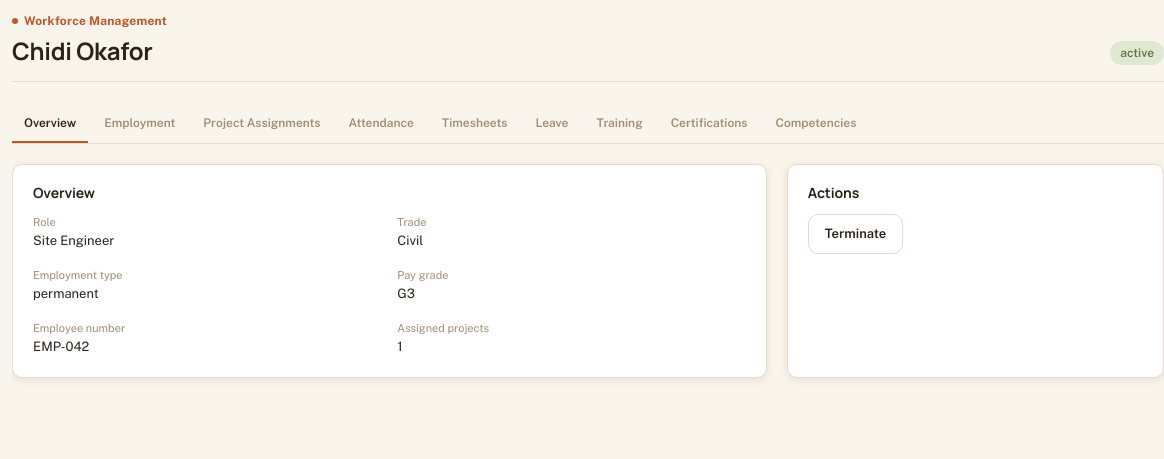
Test case: EmployeeDetailPage › shows days remaining where an allowance is set, and plain days taken where it is not
This screenshot has width=1164, height=459.
Expected: the heading "Chidi Okafor" is shown, [12, 37, 167, 65]
Click the button "Leave" at {"x": 552, "y": 125}, box [524, 106, 580, 143]
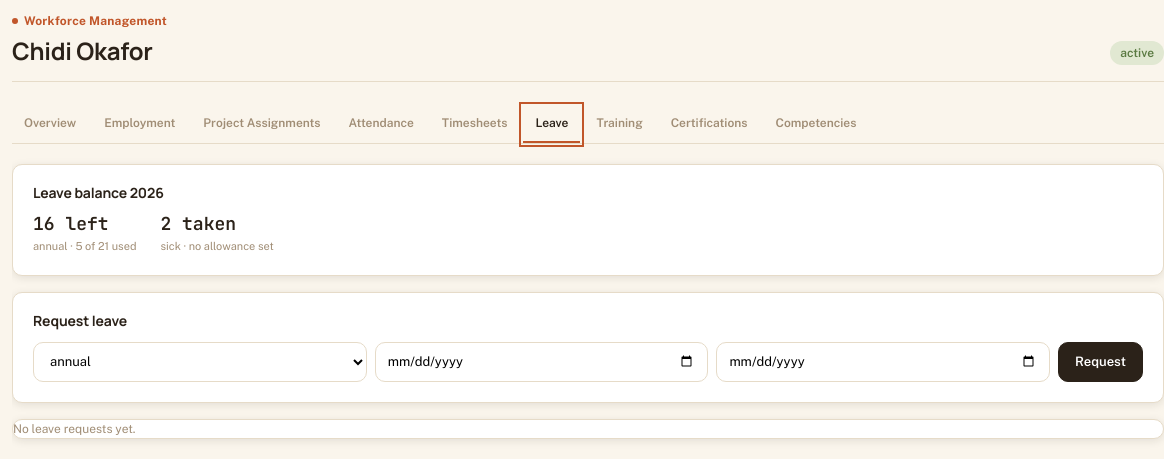
Expected: the element with test id "balance-annual" shows "16 left", [33, 212, 109, 235]
Expected: the element with test id "balance-annual" shows "5 of 21 used", [68, 240, 136, 252]
Expected: the element with test id "balance-sick" shows "2 taken", [160, 212, 236, 235]
